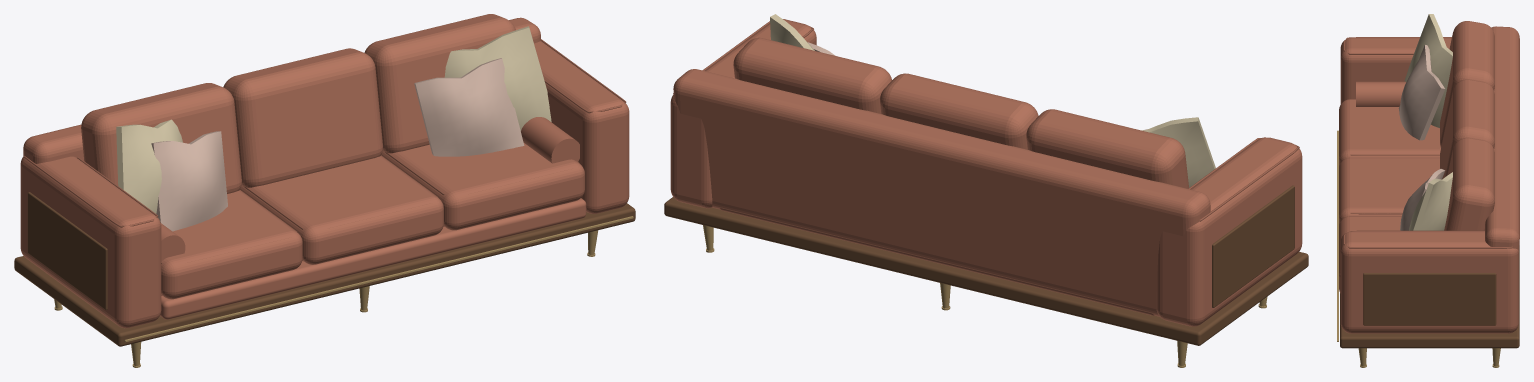
The model's file is milano-clay-3.glb.
3 renders of one model, left to right at view 1: azimuth 30°, elevation 25°; view 2: azimuth 150°, elevation 25°; view 3: azimuth 270°, elevation 25°, orthographic. The views are drawn at different scales.
Bounding box in the file's own units: 2.2 × 0.8344 × 0.7932.
